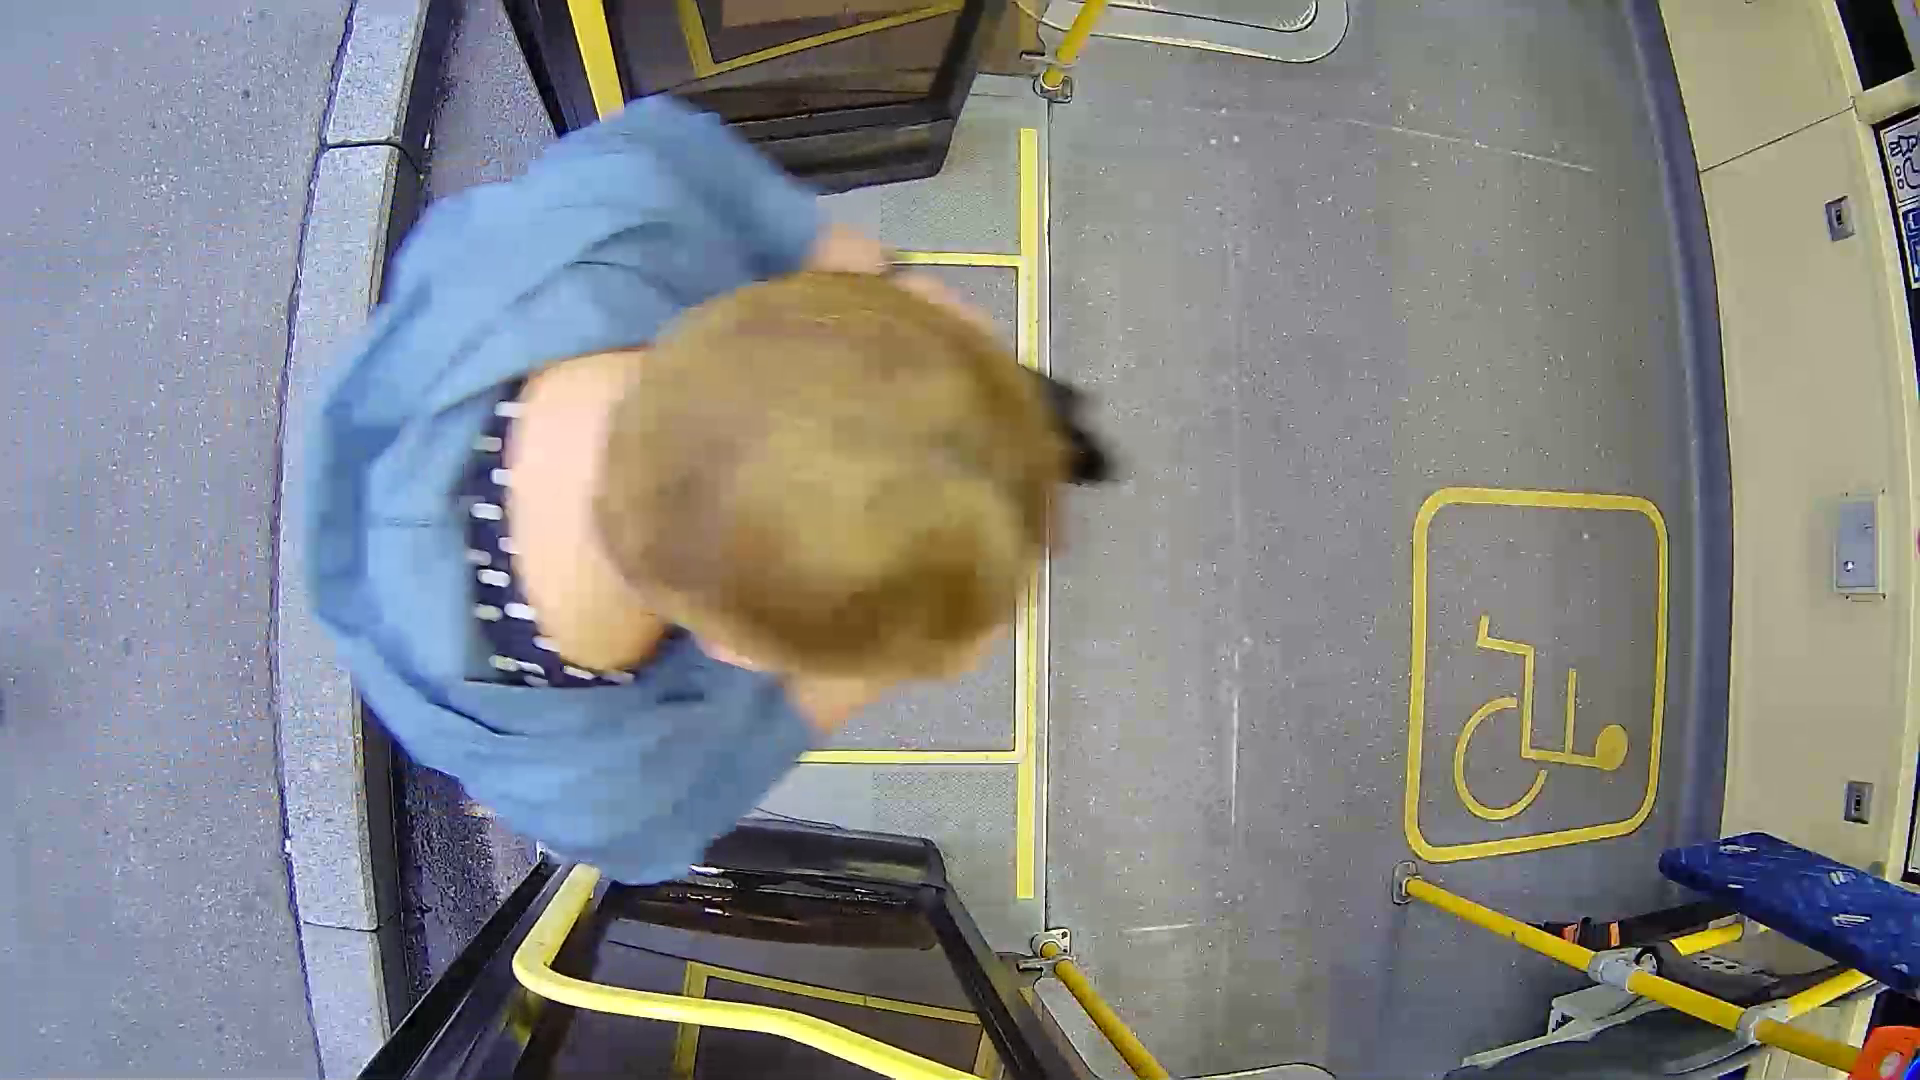person: (257, 173, 1147, 873)
